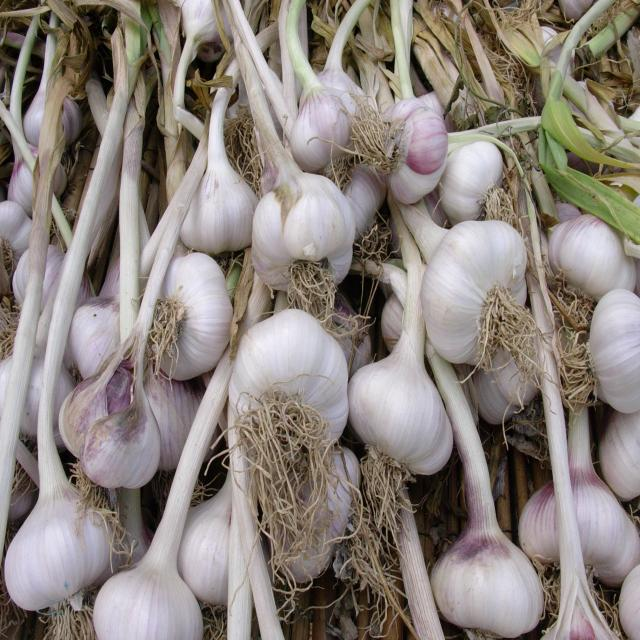Garlic: (317, 257, 474, 588), (217, 288, 353, 572), (58, 307, 174, 549), (417, 213, 557, 381), (1, 429, 102, 640), (156, 89, 265, 282), (523, 395, 632, 581), (253, 146, 361, 325), (434, 472, 546, 640), (555, 279, 640, 448), (132, 250, 243, 376), (433, 96, 527, 236), (546, 179, 636, 325), (422, 125, 526, 242), (367, 86, 445, 212), (14, 27, 89, 152), (292, 42, 352, 186)
